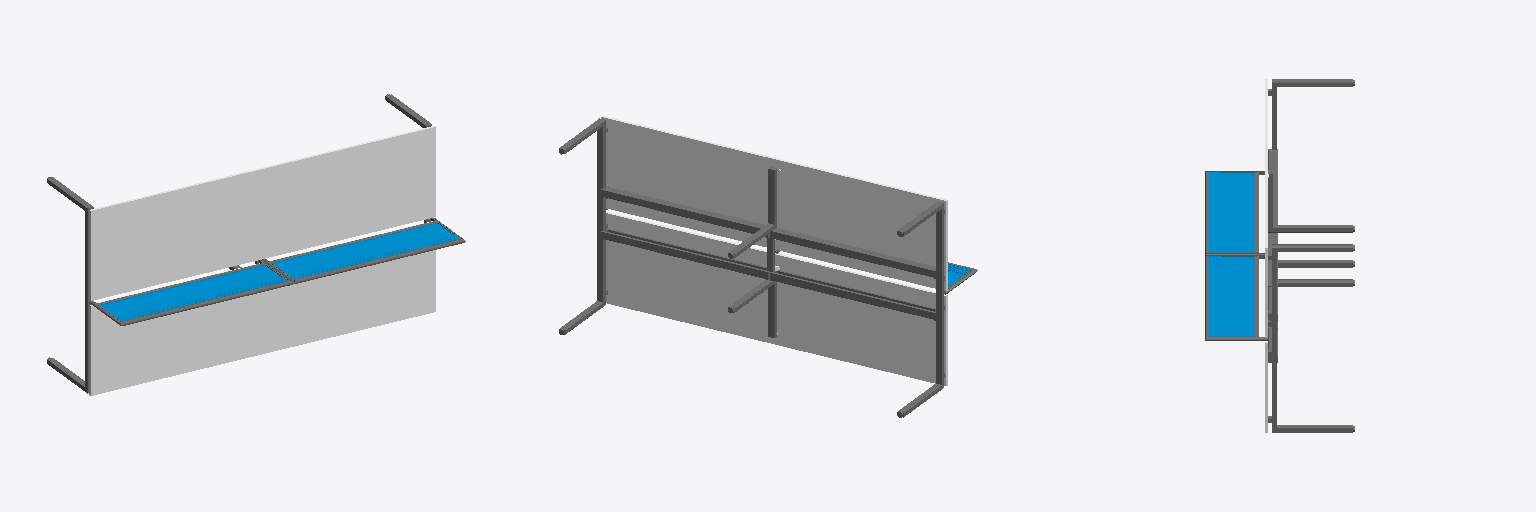
File: meson.obj
The picture shows the model from 3 angles: view 1: azimuth 30°, elevation 25°; view 2: azimuth 150°, elevation 25°; view 3: azimuth 270°, elevation 25°; orthographic projection.
Parts seen in each view (by area): view 1: Object.1; view 2: Object.1; view 3: Object.1.
Boxes of the visible parts, x1,y1,x2,y2 form: Object.1: [47, 94, 465, 395]; Object.1: [559, 116, 977, 417]; Object.1: [1205, 79, 1354, 432].
Size of the model in its own units: 3200 by 1652 by 1200.